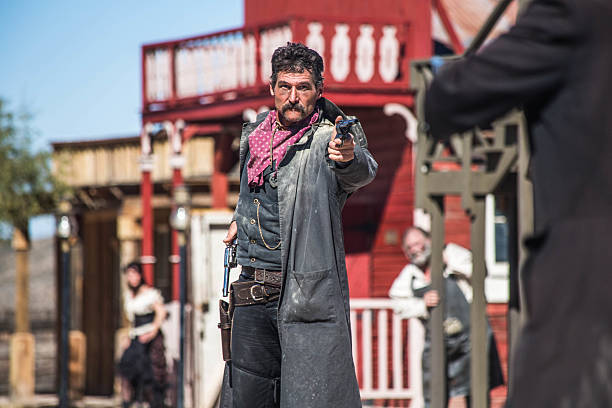gun: (223, 238, 237, 297), (333, 118, 360, 147)
